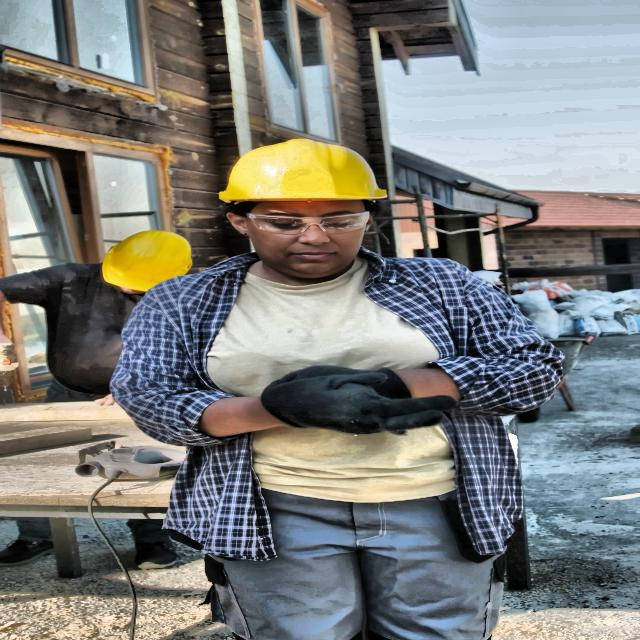gloved: (275, 385, 508, 459), (304, 353, 421, 408)
